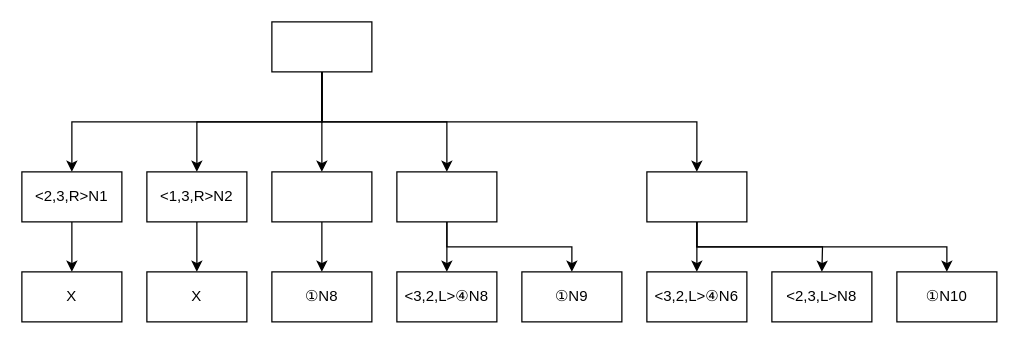
The diagram is 1019 pixels wide and 344 high, and some of its shapes have lost their labels. Here are the shapes that lost their labels. From the top down, the centre of each, then its label:
the point at 321,46: <3,3,L>①
the point at 321,196: <3,2,R>N3
the point at 446,196: <3,1,R>③N4
the point at 696,196: <2,2,R>②N5
